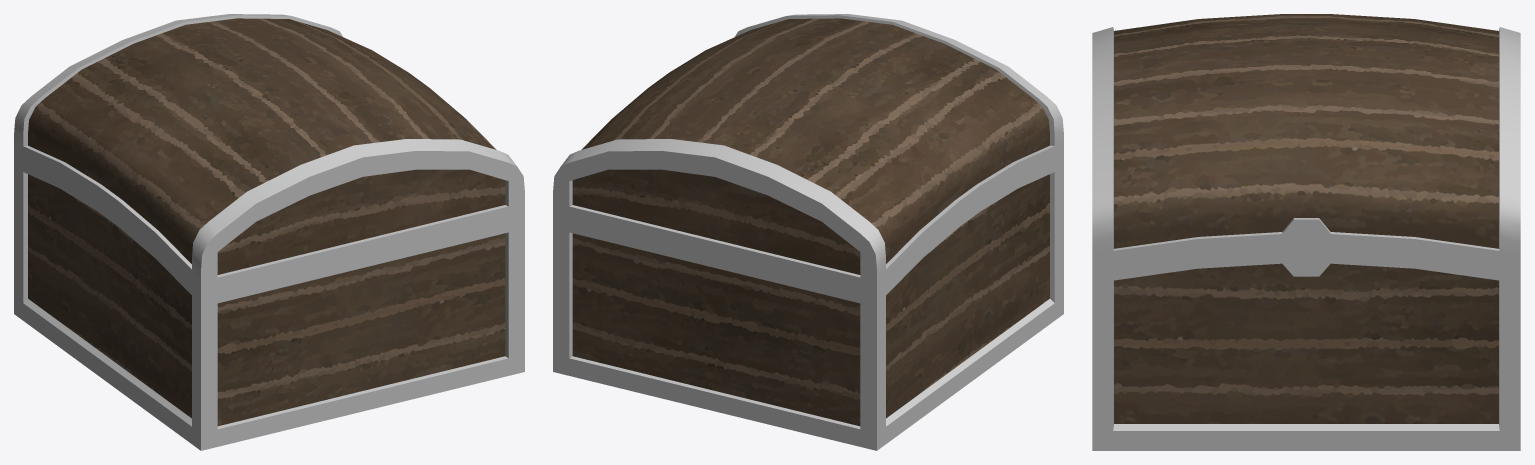
Rendered from Coffre.fbx.
3 views of the same model, side by side, from view 1: azimuth 30°, elevation 25°; view 2: azimuth 150°, elevation 25°; view 3: azimuth 270°, elevation 25° (orthographic). The views are drawn at different scales.
Parts seen in each view (by area): view 1: Coffre; view 2: Coffre; view 3: Coffre.
Boxes of the visible parts, <box> form: Coffre: <box>14,14,524,450</box>; Coffre: <box>553,14,1063,450</box>; Coffre: <box>1092,14,1520,450</box>.
Size of the model in its own units: 100 by 80.15 by 100.
